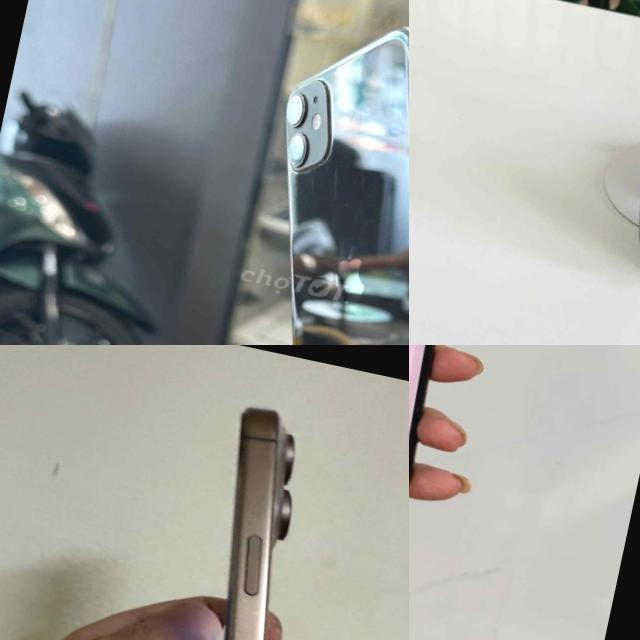gen_11: (187, 0, 409, 345)
gen_15: (571, 0, 640, 291)
gen_16: (101, 383, 381, 640)
gen_x_xs: (409, 345, 495, 505)
